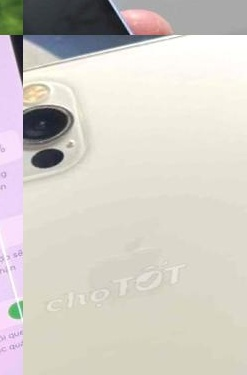screen_defect: (0, 35, 23, 375)
